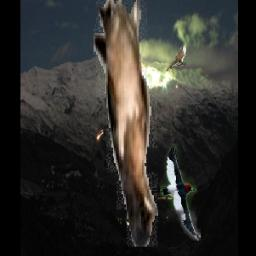Cuckoo: (166, 44, 187, 72)
Swallow: (94, 0, 158, 247)
Woodpecker: (160, 143, 201, 241)
